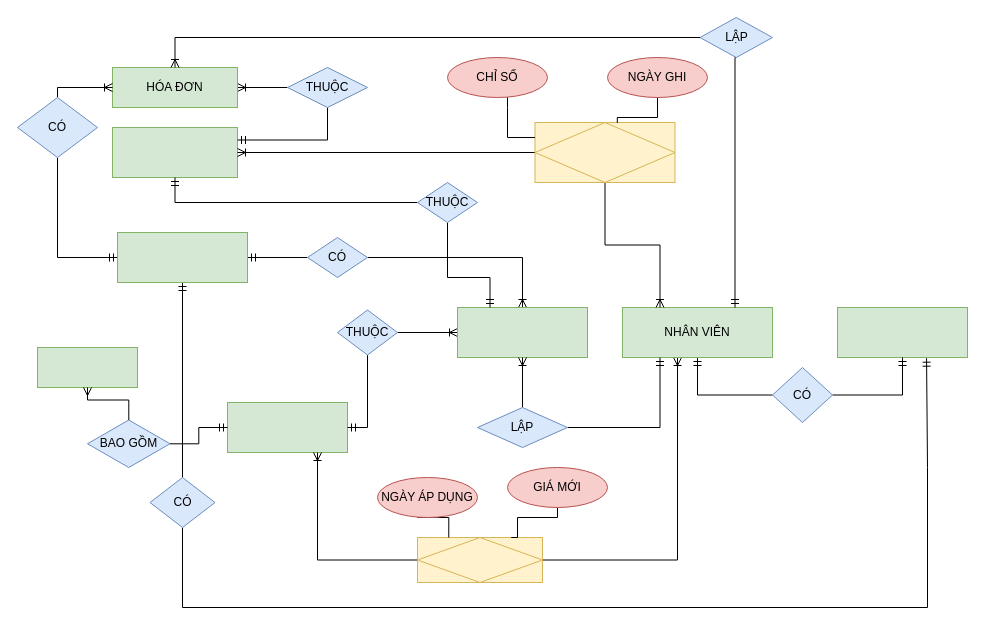
Image size: 985x633. Some labels were removed from this diagram. Each missing label, with the box of its shape:
BẢNG GIÁ: (36, 346, 138, 388)
CT_TĐG: (416, 536, 542, 582)
CT_ĐHN: (534, 122, 675, 182)
DỊCH VỤ: (226, 402, 348, 452)
HỢP ĐỒNG: (456, 306, 588, 358)
KHÁCH HÀNG: (116, 232, 248, 282)
TÀI KHOẢN: (836, 306, 968, 358)
ĐỒNG HỒ NƯỚC: (112, 126, 238, 178)
